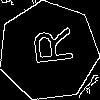R: (23, 26, 74, 68)
